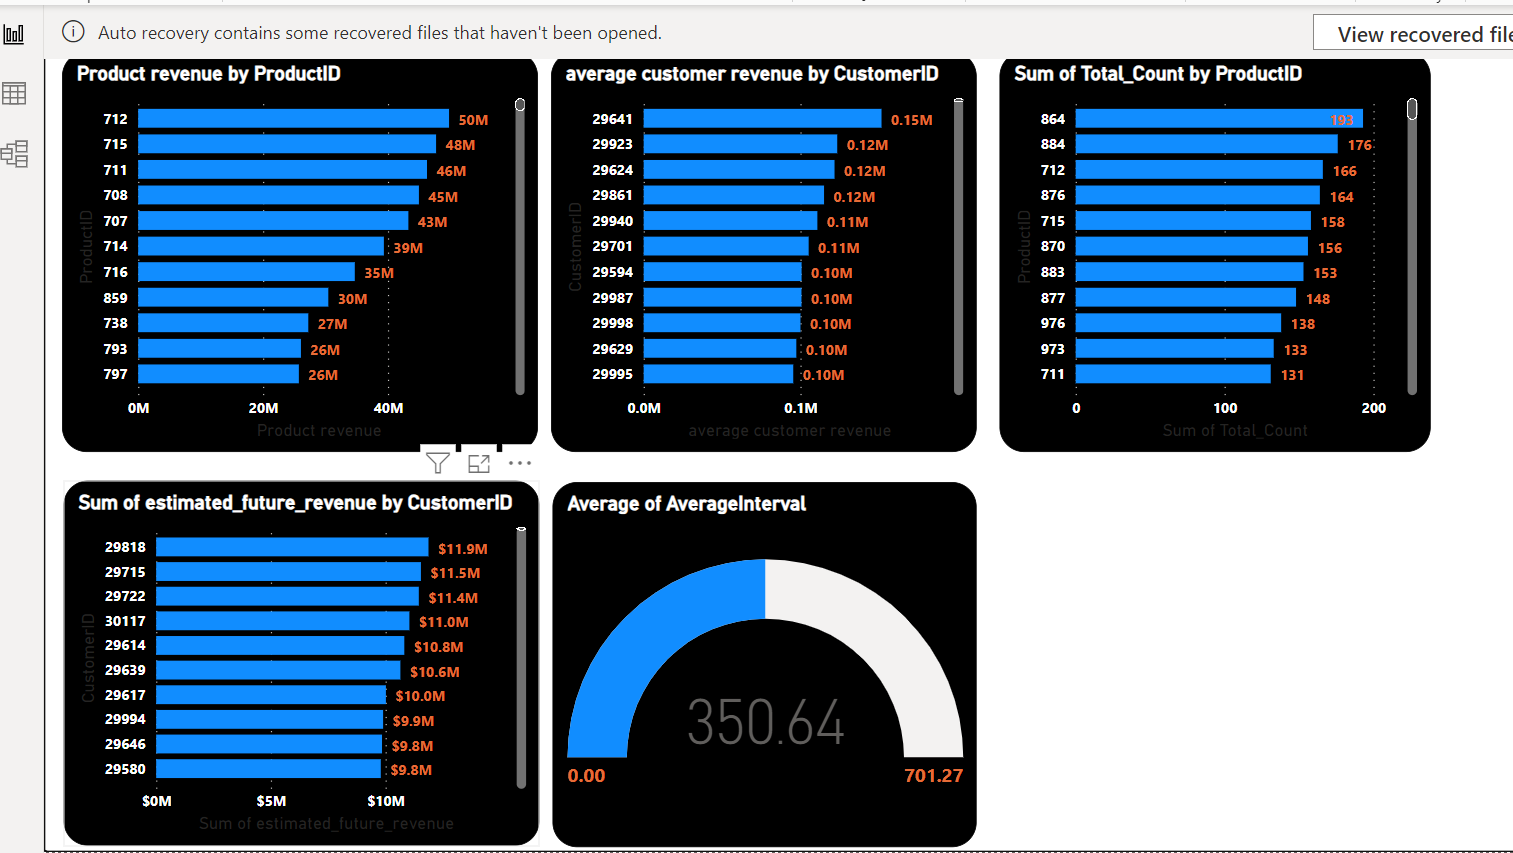

This screenshot's page, from the dashboard's own definition file:
{"tool":"powerbi","page":{"name":"Page 2","canvas":[1280,720],"ordinal":1},"visuals":[{"type":"clusteredBarChart","fields":{"Category":["high_sales_product.ProductID"],"Y":["Sum(high_sales_product.productrevenue)"]},"box":[15.7,40,404.3,340],"z":0},{"type":"clusteredBarChart","fields":{"Y":["Sum(average_purchase_bycustomer.acerage_monetary_value)"],"Category":["average_purchase_bycustomer.CustomerID"]},"box":[430,40,361.4,340],"z":1000},{"type":"gauge","fields":{"Y":["Avg(repeated_purchase_averagedays.AverageInterval)"]},"box":[431.4,404.3,360,310],"z":2000},{"type":"clusteredBarChart","fields":{"Y":["Sum(most_popular_product.Total_Count)"],"Category":["most_popular_product.ProductID"]},"box":[811.4,40,365.7,340],"z":3000},{"type":"clusteredBarChart","fields":{"Category":["Query1.CustomerID"],"Y":["Sum(Query1.estimated_future_revenue)"]},"box":[16,404,404,310],"z":4000}]}

Visuals, with their boxes in screenshot pixels (x1, y1, x2, y2):
clusteredBarChart - high_sales_product.ProductID x Sum(high_sales_product.productrevenue): 66:55:537:451
clusteredBarChart - Sum(average_purchase_bycustomer.acerage_monetary_value) x average_purchase_bycustomer.CustomerID: 549:55:970:451
gauge - Avg(repeated_purchase_averagedays.AverageInterval): 550:479:970:841
clusteredBarChart - Sum(most_popular_product.Total_Count) x most_popular_product.ProductID: 993:55:1419:451
clusteredBarChart - Query1.CustomerID x Sum(Query1.estimated_future_revenue): 66:479:537:840
